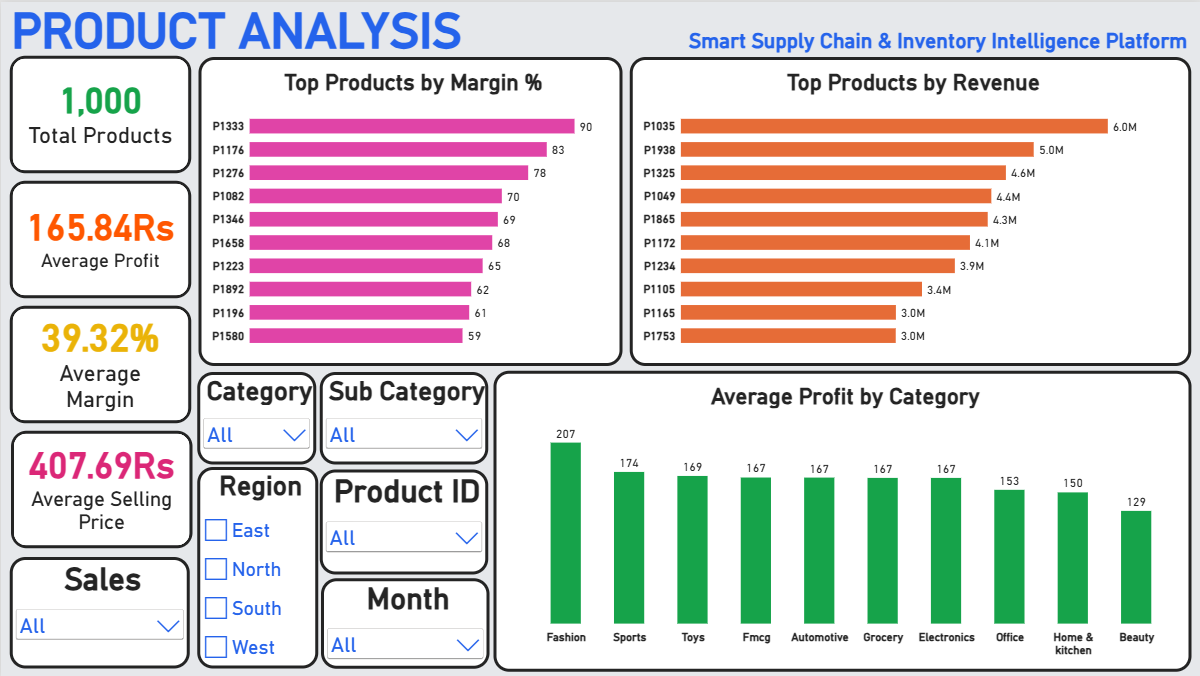

The dashboard page shown, as its layout file describes it:
{"tool":"powerbi","page":{"name":"Product Analysis","canvas":[1920,1080],"ordinal":1},"visuals":[{"type":"textbox","box":[0,0,1920.1,92.3],"z":0},{"type":"cardVisual","fields":{"Data":["Products.Measure"]},"box":[14,85,290,188],"z":1000},{"type":"cardVisual","fields":{"Data":["Products.Average Profit"]},"box":[14,285,290,188],"z":2000},{"type":"cardVisual","fields":{"Data":["Products.Average Margin"]},"box":[14,485,290,188],"z":3000},{"type":"clusteredBarChart","title":"Top Products by Revenue","fields":{"Category":["Products.Product_ID"],"Y":["Sum(Orders.Revenue)"]},"box":[1006,88,898,494],"z":4000},{"type":"slicer","title":"Product ID","fields":{"Values":["Products.Product_ID"]},"box":[510.3,747.4,269.6,168.3],"z":5000},{"type":"cardVisual","fields":{"Data":["Products.Average Selling Price"]},"box":[16,685,290,188],"z":6000},{"type":"slicer","title":"Month","fields":{"Values":["Orders.Order_Date.Variation.Date Hierarchy.Month"]},"box":[512.1,921.1,269.6,144.8],"z":7000},{"type":"clusteredColumnChart","title":"Average Profit by Category","fields":{"Category":["Products.Category"],"Y":["Avg(Products.Profit)"]},"box":[787.2,589.9,1116.6,481.4],"z":8000},{"type":"clusteredBarChart","title":"Top Products by Margin %","fields":{"Category":["Products.Product_ID"],"Y":["Sum(Products.Margin_Pct)"]},"box":[316,88,678,494],"z":9000},{"type":"slicer","title":"Category","fields":{"Values":["Products.Category"]},"box":[313.1,591.8,190,148.4],"z":10000},{"type":"slicer","title":"Sub Category","fields":{"Values":["Products.Sub_Category"]},"box":[510.3,591.8,269.6,148.4],"z":11000},{"type":"slicer","title":"Sales","fields":{"Values":["Products.Sales"]},"box":[14,888,288,178],"z":12000},{"type":"slicer","title":"Region","fields":{"Values":["Customers.Region"]},"box":[313.1,743.8,193.6,322.1],"z":13000}]}

Visuals, with their boxes in screenshot pixels (x1, y1, x2, y2), scaled from the page's 1920x1080 canvas onto the 1200x676 screenshot:
textbox: [x1=0, y1=0, x2=1199, y2=58]
cardVisual - Products.Measure: [x1=9, y1=53, x2=190, y2=171]
cardVisual - Products.Average Profit: [x1=9, y1=178, x2=190, y2=296]
cardVisual - Products.Average Margin: [x1=9, y1=304, x2=190, y2=421]
"Top Products by Revenue" clusteredBarChart: [x1=629, y1=55, x2=1190, y2=364]
"Product ID" slicer: [x1=319, y1=468, x2=487, y2=573]
cardVisual - Products.Average Selling Price: [x1=10, y1=429, x2=191, y2=546]
"Month" slicer: [x1=320, y1=577, x2=489, y2=667]
"Average Profit by Category" clusteredColumnChart: [x1=492, y1=369, x2=1190, y2=671]
"Top Products by Margin %" clusteredBarChart: [x1=198, y1=55, x2=621, y2=364]
"Category" slicer: [x1=196, y1=370, x2=314, y2=463]
"Sub Category" slicer: [x1=319, y1=370, x2=487, y2=463]
"Sales" slicer: [x1=9, y1=556, x2=189, y2=667]
"Region" slicer: [x1=196, y1=466, x2=317, y2=667]
